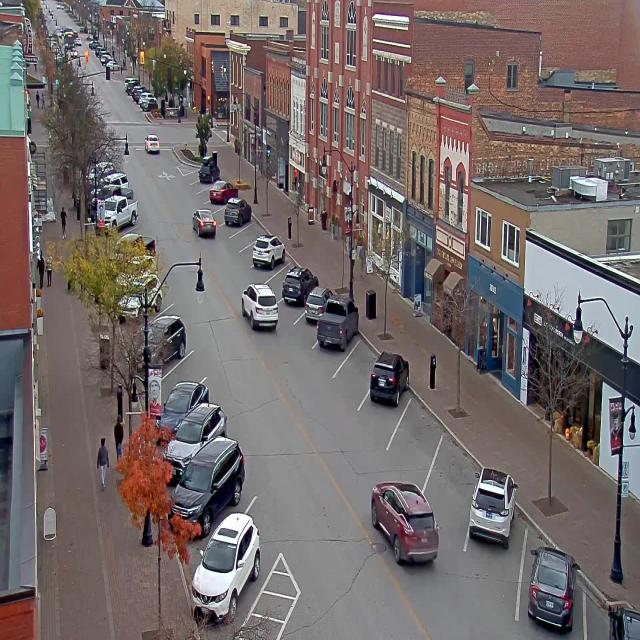available: (422, 431, 479, 525), (382, 389, 446, 470), (159, 342, 216, 384), (340, 335, 378, 392), (266, 262, 290, 295), (235, 218, 256, 246), (238, 241, 256, 268), (182, 165, 200, 189), (211, 205, 226, 227), (195, 183, 209, 206)
occupied: (185, 499, 281, 601), (169, 435, 245, 538), (526, 545, 580, 631), (468, 466, 518, 547), (156, 378, 209, 442), (169, 398, 231, 450), (591, 586, 638, 639), (316, 296, 358, 352), (368, 349, 408, 406), (149, 312, 191, 360), (282, 264, 318, 305), (252, 232, 285, 269), (300, 289, 328, 329), (224, 197, 252, 227), (208, 178, 238, 206), (198, 159, 219, 184)
